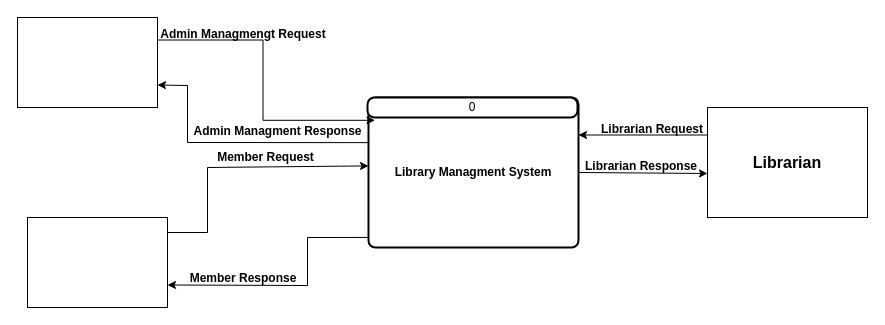
Some shapes in this 885 by 325 pixel diagram are drawn without their labels. The shapes that lost their labels are listed below. From the top down, each one's centre as x and y in pixels, then its label:
At point 87,62: "Admin".
At point 97,262: "Member".
